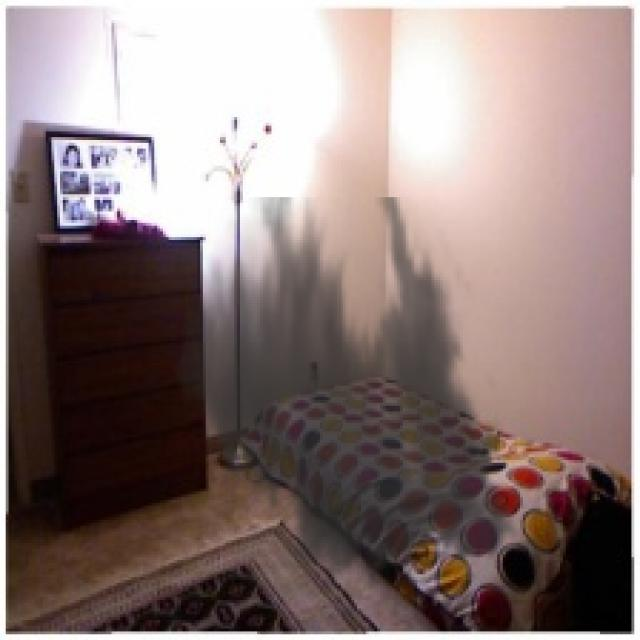smoke: (163, 197, 528, 597)
